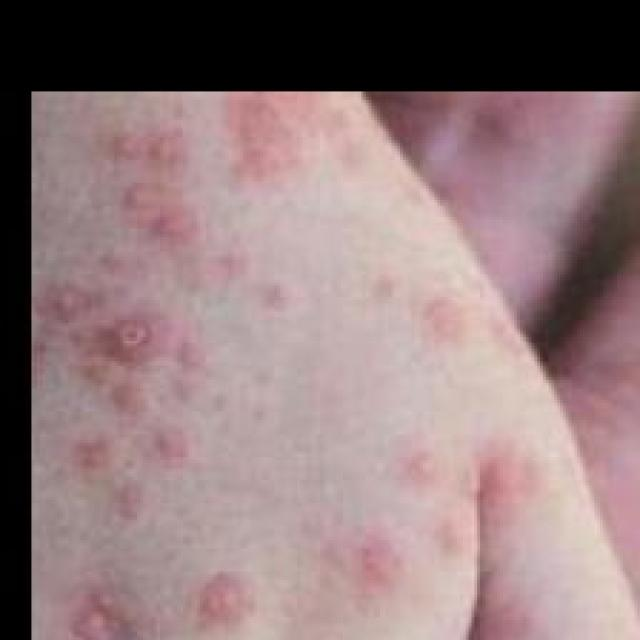monkeypox: (28, 89, 640, 640)
